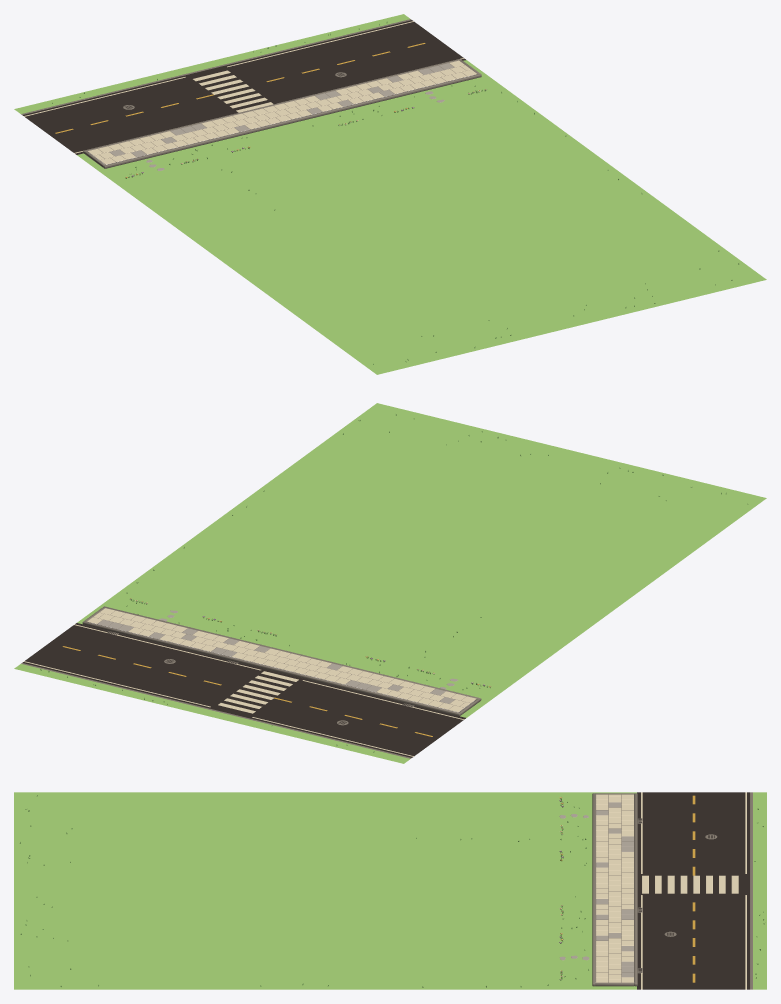
Rendered from ShopStreet.fbx.
The picture shows the model from 3 angles, top to bottom: view 1: azimuth 30°, elevation 25°; view 2: azimuth 150°, elevation 25°; view 3: azimuth 270°, elevation 25°; orthographic projection. The views are drawn at different scales.
Parts seen in each view (by area): view 1: ShopStreet; view 2: ShopStreet; view 3: ShopStreet.
Part boxes in pixels (<box>): ShopStreet: <box>14,14,766,374</box>; ShopStreet: <box>14,403,766,763</box>; ShopStreet: <box>14,792,766,989</box>.
Bounding box in the file's own units: 31 × 0.21 × 50.
